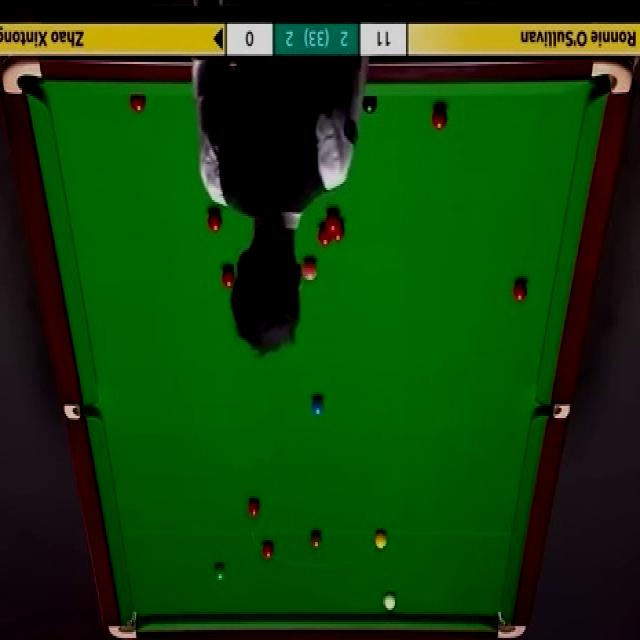black-ball: (360, 95, 379, 116)
blue-ball: (310, 396, 325, 416)
brown-ball: (310, 532, 322, 552)
green-ball: (214, 562, 228, 584)
pink-ball: (301, 256, 318, 281)
red-ball: (432, 104, 448, 132), (220, 265, 236, 291), (513, 275, 528, 302), (209, 205, 223, 232), (332, 218, 346, 242), (130, 95, 146, 115), (261, 541, 276, 562), (318, 222, 331, 246), (324, 210, 340, 229), (246, 500, 262, 517)
white-ball: (384, 592, 396, 611)
yellow-ball: (374, 531, 388, 549)
